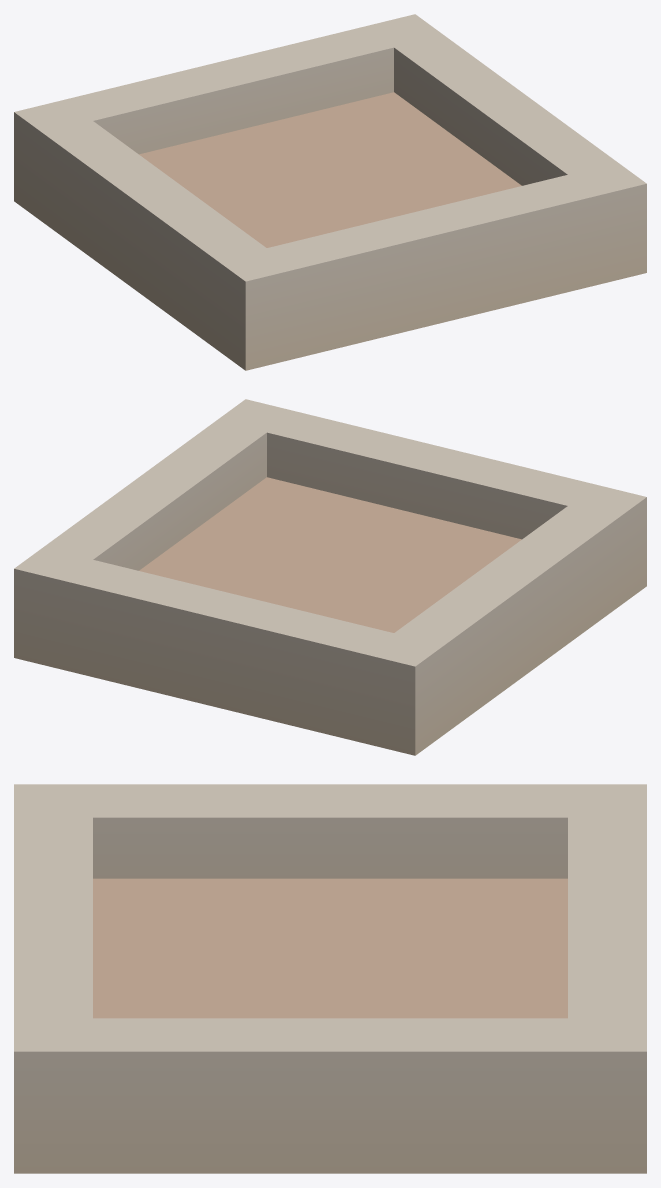
Rendered from roof-flat-border-center.glb.
3 views of the same model, one above another, from view 1: azimuth 30°, elevation 25°; view 2: azimuth 150°, elevation 25°; view 3: azimuth 270°, elevation 25° (orthographic). The views are drawn at different scales.
Visible parts, largest first — view 1: roof-flat-border-center; view 2: roof-flat-border-center; view 3: roof-flat-border-center.
Boxes of the visible parts, x1,y1,x2,y2 form: roof-flat-border-center: [14, 14, 646, 370]; roof-flat-border-center: [14, 399, 646, 755]; roof-flat-border-center: [14, 784, 646, 1173].
Bounding box in the file's own units: 1 × 0.2125 × 1.
